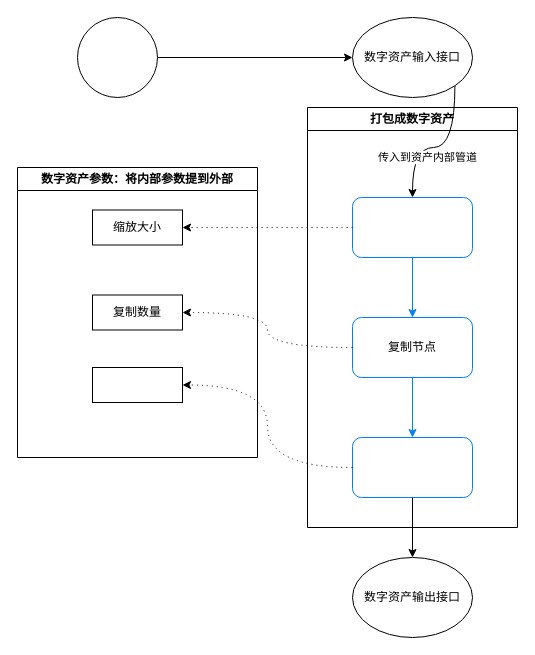
Image size: 535x655. Some labels were removed from this diagram. Each missing label, with the centre of its shape:
"外部资产" goes at point (117, 57).
"缩放节点" goes at point (412, 227).
"随机种子" goes at point (137, 384).
"随机颜色" goes at point (412, 467).
